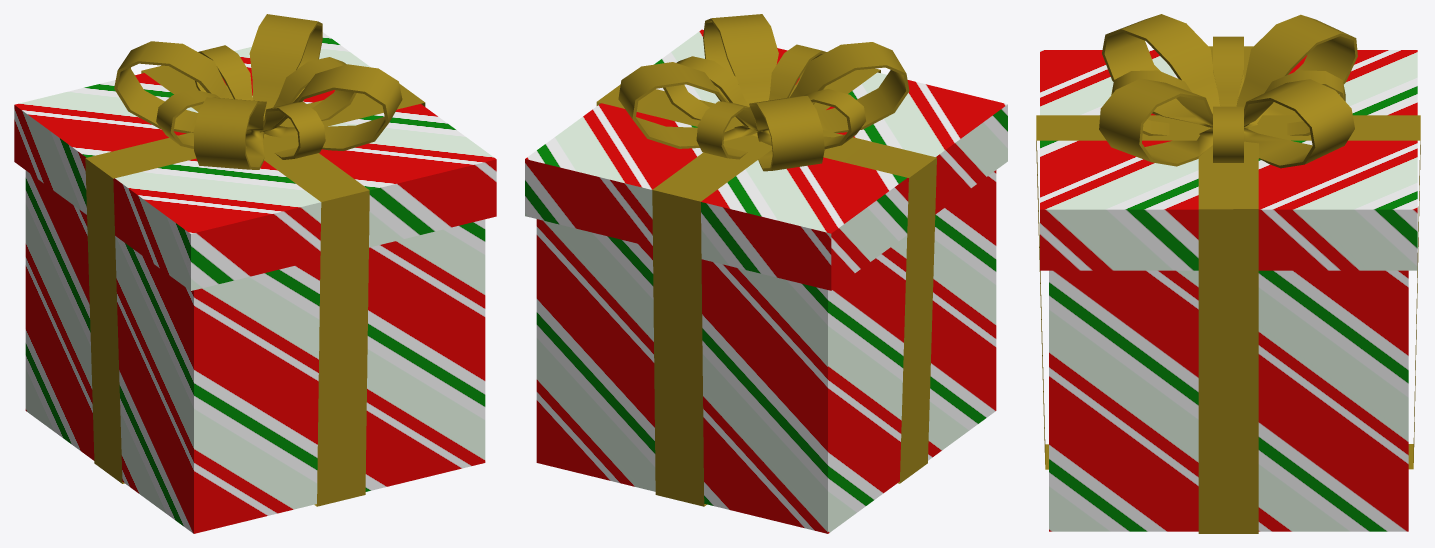
The model's file is gift 01 ribbon02.fbx.
The picture shows the model from 3 angles, left to right: view 1: azimuth 30°, elevation 25°; view 2: azimuth 150°, elevation 25°; view 3: azimuth 270°, elevation 25°; orthographic projection. The views are drawn at different scales.
Parts seen in each view (by area): view 1: gift, ribbon, Gift01; view 2: gift, ribbon, Gift01; view 3: gift, Gift01, ribbon.
Part boxes in pixels (x1,y1,x2,y2): gift: (14,32,496,533); ribbon: (85,65,425,506); Gift01: (114,14,402,169); gift: (525,29,1007,533); ribbon: (596,68,936,506); Gift01: (618,14,909,171); gift: (1040,50,1417,531); Gift01: (1099,14,1357,168); ribbon: (1036,46,1420,533).
Bounding box in the file's own units: 32.14 × 36.76 × 32.07.
Materials: 2 (1 with a texture image).
